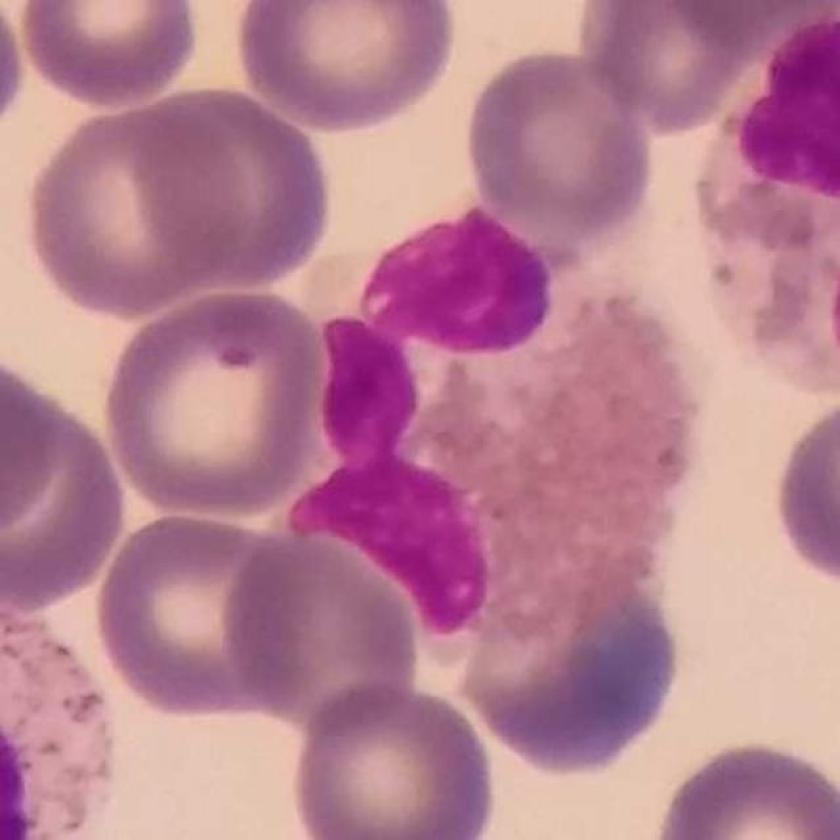eosinophil: (285, 203, 689, 782), (691, 1, 840, 422)
